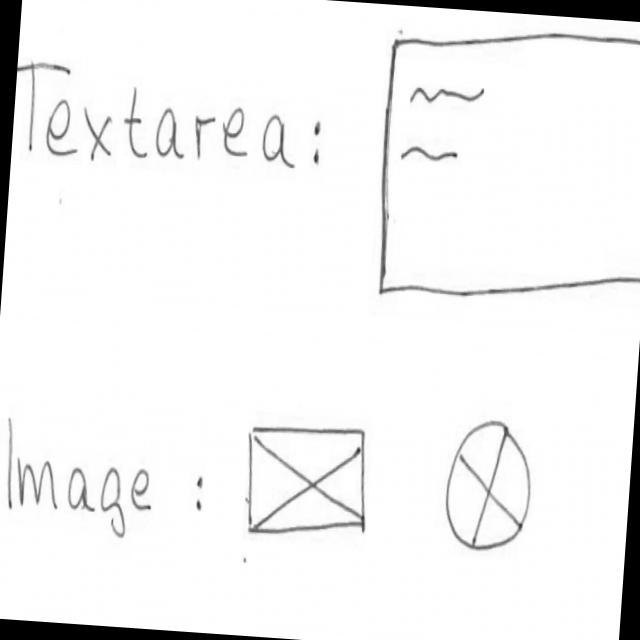image: (238, 414, 375, 546), (441, 412, 536, 558)
textarea: (368, 11, 640, 315)
